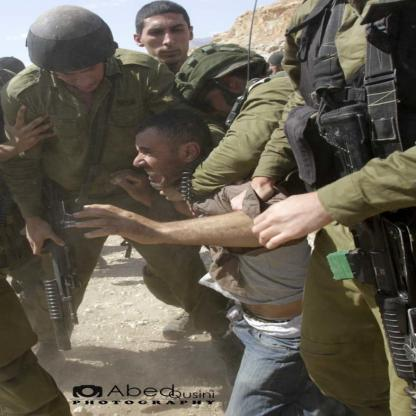Helmet: (9, 7, 124, 75), (178, 46, 273, 100)
